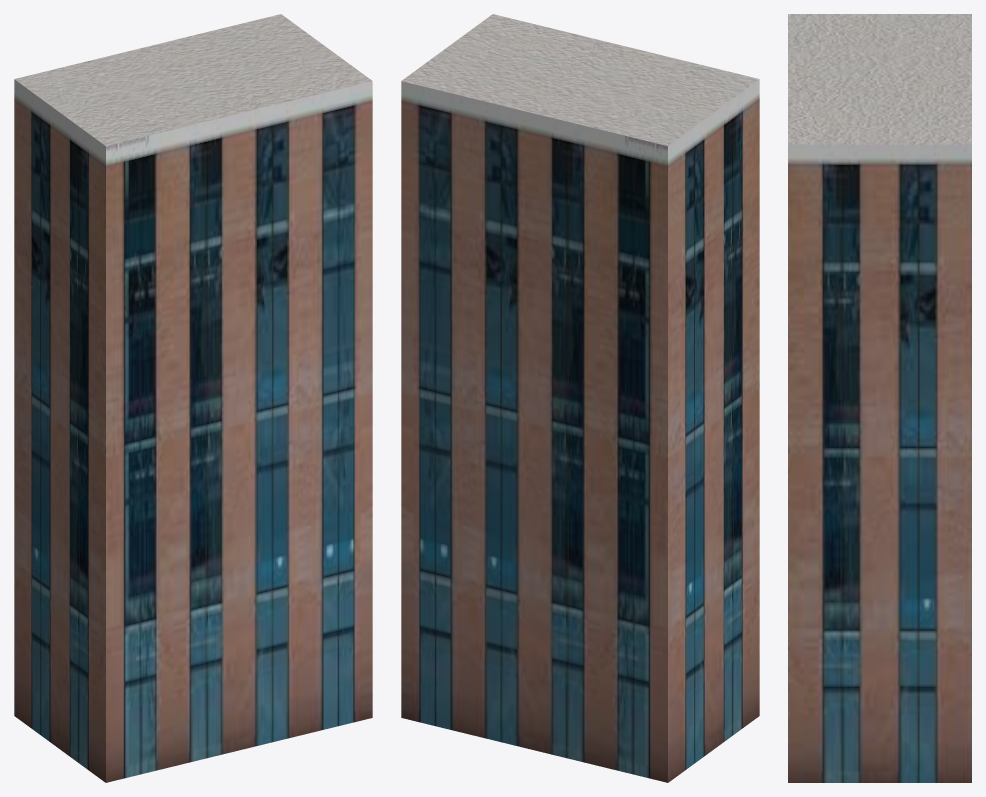
The model's file is building_021.fbx.
The picture shows the model from 3 angles, left to right: view 1: azimuth 30°, elevation 25°; view 2: azimuth 150°, elevation 25°; view 3: azimuth 270°, elevation 25°; orthographic projection.
Visible parts, largest first — view 1: building_021; view 2: building_021; view 3: building_021.
Part boxes in pixels (x1,y1,x2,y2): building_021: [14, 14, 372, 782]; building_021: [401, 14, 759, 782]; building_021: [788, 14, 971, 782].
Size of the model in its own units: 1513 by 3450 by 900.
